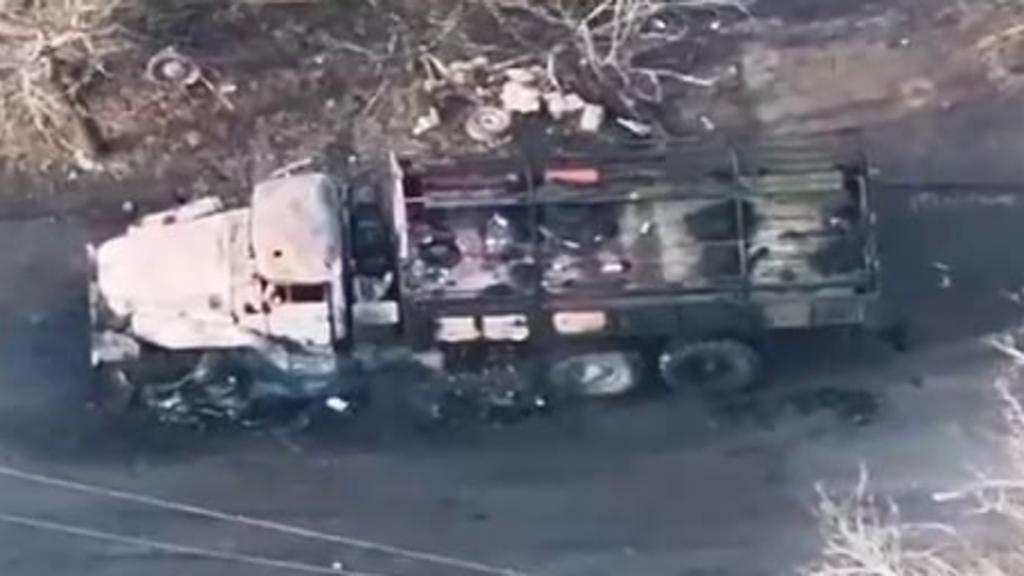TRUCK: (72, 139, 882, 427)
